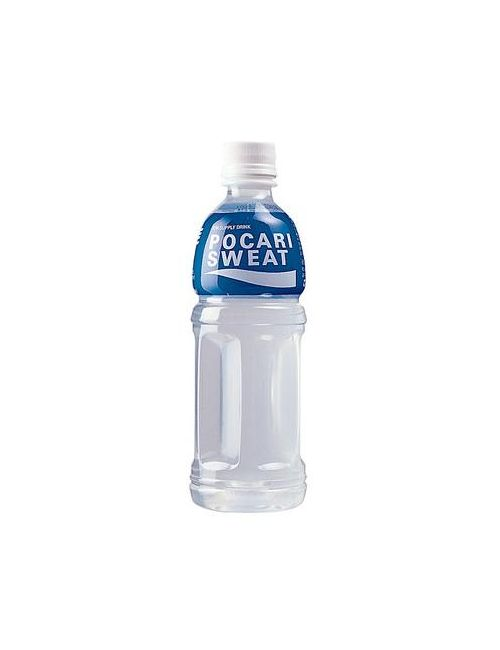POCARI SWEAT: (187, 139, 307, 514)
